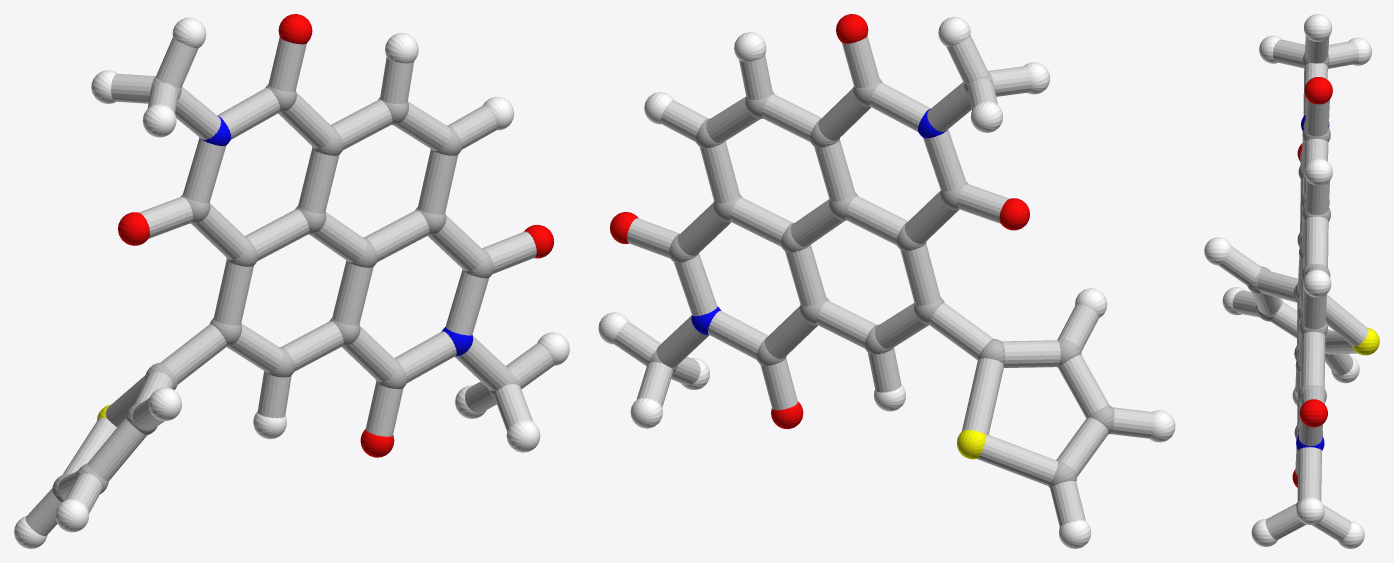
The model's file is Dimethyl_Naphthalene_Dicarboximide_Phi_15_Theta_300_Thiophene.glb.
The picture shows the model from 3 angles, left to right: view 1: azimuth 30°, elevation 25°; view 2: azimuth 150°, elevation 25°; view 3: azimuth 270°, elevation 25°; orthographic projection. The views are drawn at different scales.
Parts seen in each view (by area): view 1: grp14119, grp7241, grp1, grp12309, grp11585; view 2: grp14119, grp7241, grp1, grp12309, grp11585, grp13757; view 3: grp14119, grp7241, grp1, grp12309, grp13757, grp11585.
Boxes of the visible parts, box(x1,y1,x2,y2) form: grp14119: box(25, 37, 554, 536); grp7241: box(14, 17, 569, 548); grp1: box(52, 77, 519, 502); grp12309: box(118, 14, 553, 457); grp11585: box(199, 116, 473, 356); grp14119: box(614, 35, 1154, 526); grp7241: box(598, 16, 1175, 548); grp1: box(648, 72, 1114, 487); grp12309: box(610, 14, 1029, 429); grp11585: box(691, 108, 946, 334); grp13757: box(957, 430, 986, 459); grp14119: box(1218, 35, 1368, 541); grp7241: box(1204, 14, 1371, 548); grp1: box(1247, 53, 1333, 507); grp12309: box(1292, 77, 1332, 487); grp13757: box(1352, 327, 1379, 355); grp11585: box(1296, 115, 1329, 450).
Bounding box in the file's own units: 11.35 × 9.9 × 3.7.
